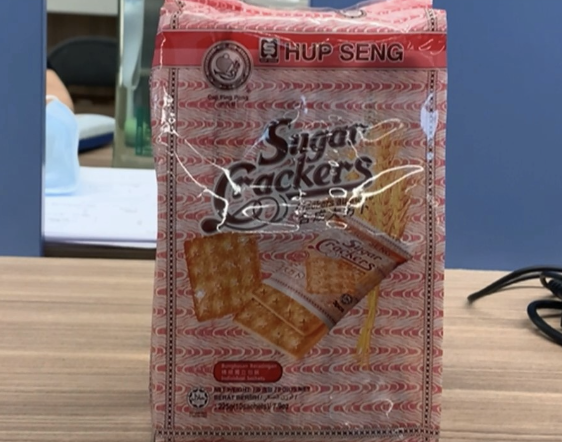crackers_150g: (179, 18, 430, 424)
